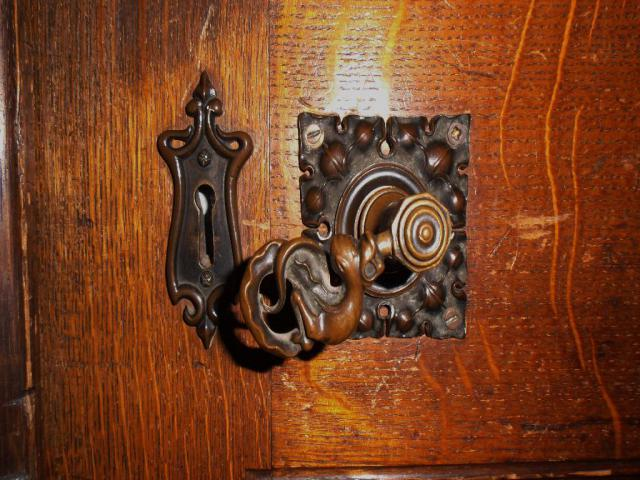Door-handle: (238, 111, 472, 362)
